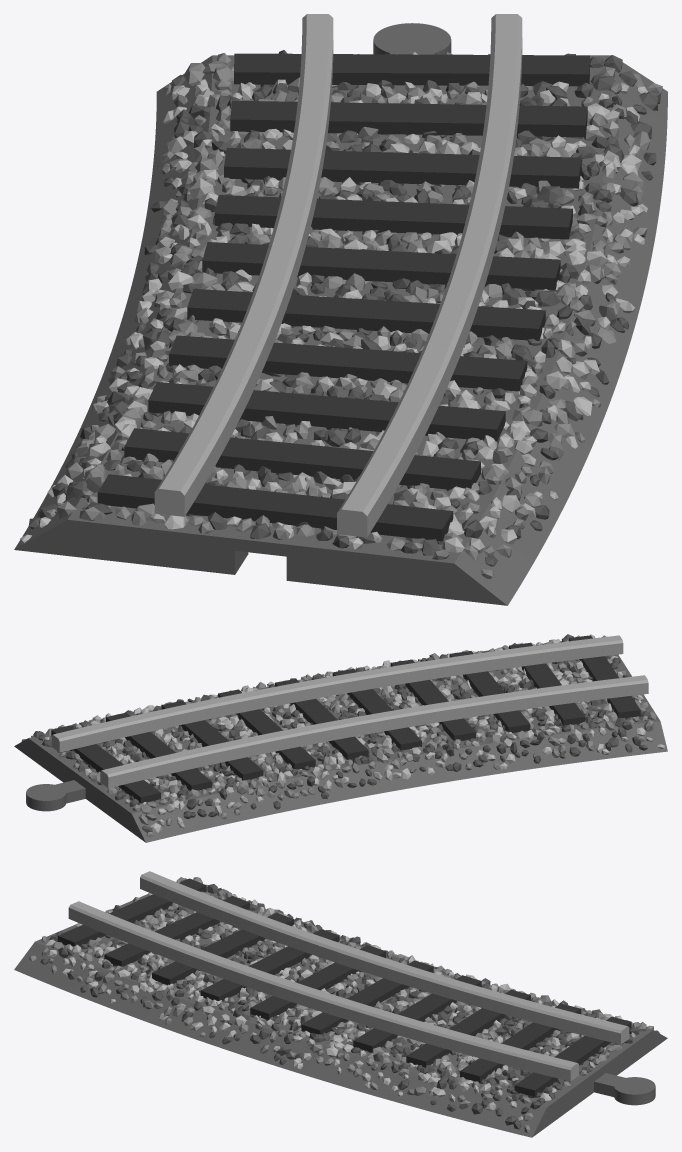
File: Rail_Left_45_60.obj
3 views of the same model, one above another, from view 1: azimuth 30°, elevation 25°; view 2: azimuth 150°, elevation 25°; view 3: azimuth 270°, elevation 25° (orthographic). The views are drawn at different scales.
Parts seen in each view (by area): view 1: Rail_Left_45_60; view 2: Rail_Left_45_60; view 3: Rail_Left_45_60.
Boxes of the visible parts, bbox=[...] form: Rail_Left_45_60: bbox=[14, 14, 667, 605]; Rail_Left_45_60: bbox=[14, 634, 667, 842]; Rail_Left_45_60: bbox=[14, 871, 667, 1137].
Size of the model in its own units: 0.9975 by 0.0804 by 1.11.
Materials: 1 (1 with a texture image).
